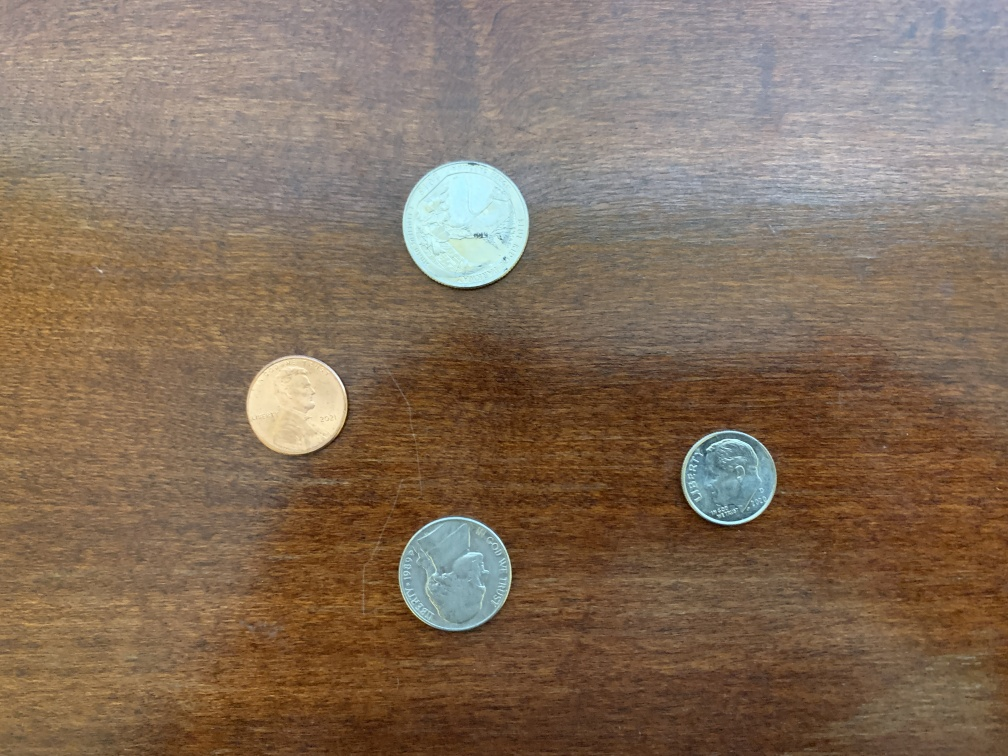dime: (679, 427, 780, 534)
nickel: (390, 514, 517, 637)
penny: (241, 353, 352, 454)
quarter: (399, 157, 532, 291)
